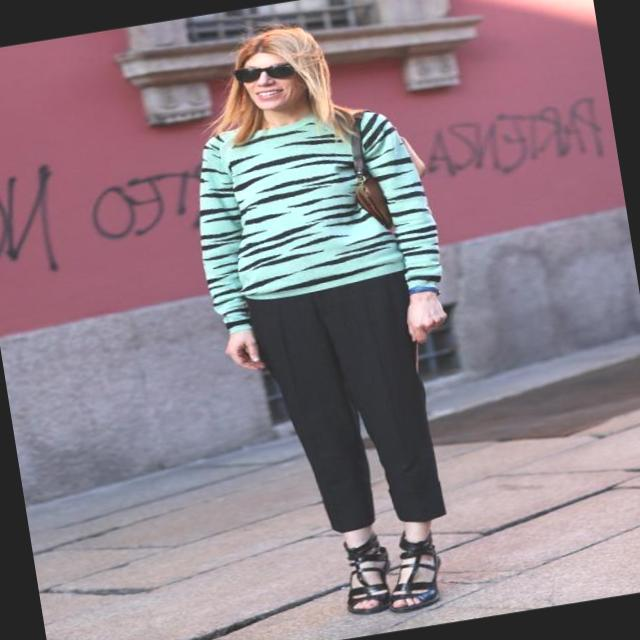pants: (244, 266, 447, 542)
sweater: (180, 95, 450, 335)
